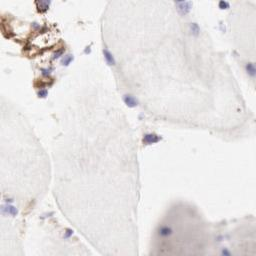nucleus: (1, 204, 19, 219), (175, 1, 192, 16), (122, 94, 139, 107), (102, 49, 114, 65), (51, 46, 64, 60), (246, 60, 256, 76), (38, 210, 56, 218), (62, 54, 73, 66), (39, 67, 56, 74), (191, 22, 199, 36), (218, 20, 226, 34), (62, 229, 74, 238), (218, 1, 229, 10), (31, 19, 40, 29), (161, 228, 171, 236), (84, 44, 92, 53), (37, 90, 47, 97), (146, 134, 153, 142), (4, 198, 15, 203), (138, 112, 144, 119), (222, 250, 228, 255)
positive_cell: (33, 78, 56, 98), (142, 131, 162, 147), (47, 40, 64, 58), (31, 20, 50, 35), (38, 61, 57, 73), (34, 1, 52, 13)
